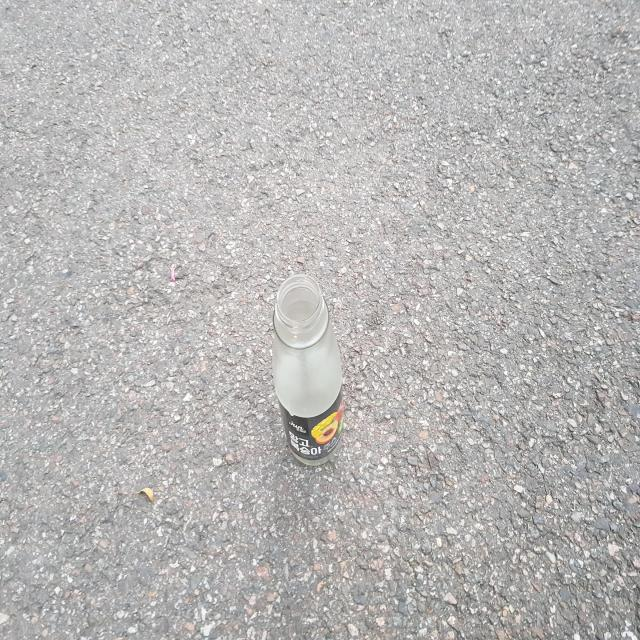glass: (272, 274, 343, 466)
